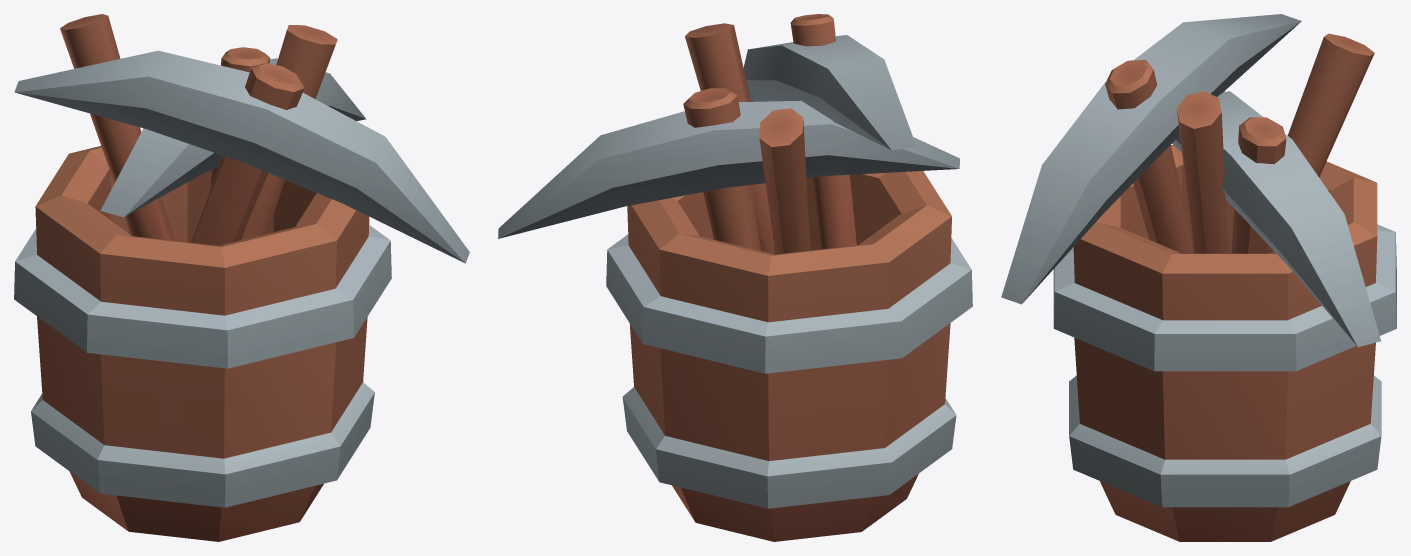
File: bucket_pickaxes.glb
3 renders of one model, left to right at view 1: azimuth 30°, elevation 25°; view 2: azimuth 150°, elevation 25°; view 3: azimuth 270°, elevation 25°, orthographic. The views are drawn at different scales.
Visible parts, largest first — view 1: bucket_pickaxes; view 2: bucket_pickaxes; view 3: bucket_pickaxes.
Part boxes in pixels (x1,y1,x2,y2): bucket_pickaxes: (14, 14, 469, 541); bucket_pickaxes: (498, 14, 972, 541); bucket_pickaxes: (1001, 14, 1396, 541).
Bounding box in the file's own units: 1.25 × 1.39 × 1.13.
Materials: 1 (1 with a texture image).
